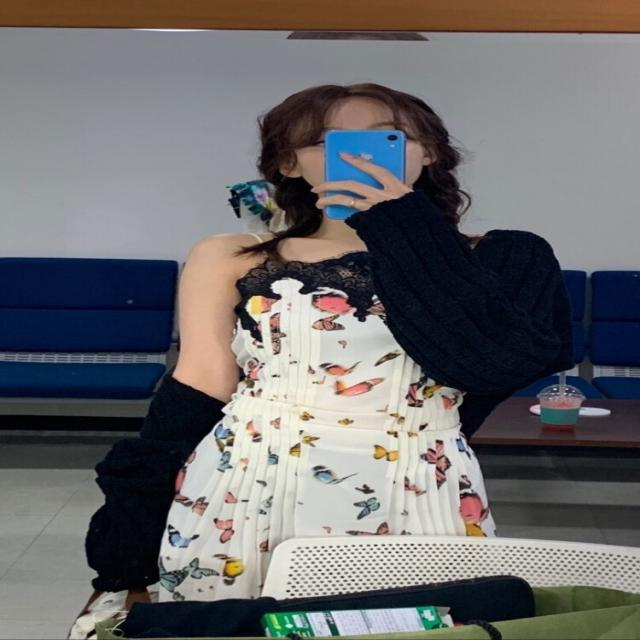phone: (325, 130, 406, 219)
